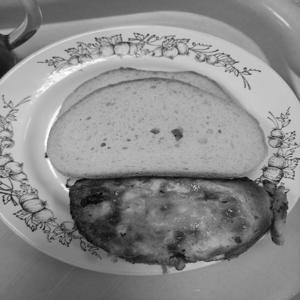bread: (35, 56, 280, 179)
cheese_sandwich: (50, 161, 294, 272)
